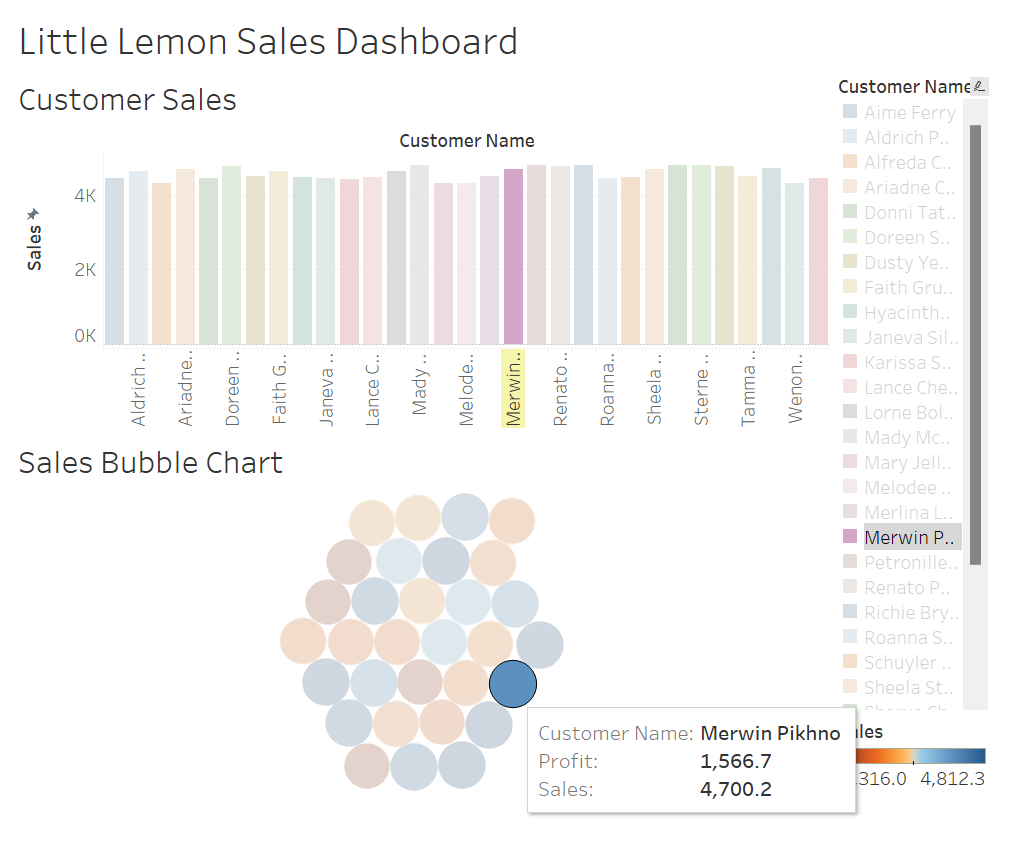

What the dashboard file says about the page in this screenshot:
{"tool":"tableau","page":{"name":"Dashboard 1","canvas":[1000,800],"ordinal":0},"visuals":[{"type":"worksheet","title":"Sheet 1","mark":"Automatic","rows":["Sales"],"cols":["Customer Name"],"box":[8,8,824,392]},{"type":"legend","title":"Sheet 1","param":"[federated.08vqa1010qjgio1h1q1ek1ecp60i].[none:Customer Name:nk]","box":[832,8,160,703]},{"type":"worksheet","title":"Sheet 2","mark":"Circle","box":[8,400,824,392]},{"type":"legend","title":"Sheet 2","param":"[federated.08vqa1010qjgio1h1q1ek1ecp60i].[sum:Sales:qk]","box":[832,711,160,81]}]}

Visuals, with their boxes on the page's 1000x800 design canvas (x1, y1, x2, y2). These are canvas units, not pixel positions in the 1013x849 screenshot, which may show the page scaled, cropped or inside an application window:
"Sheet 1" worksheet: (8,8,832,400)
"Sheet 1" legend: (832,8,992,711)
"Sheet 2" worksheet (Circle marks): (8,400,832,792)
"Sheet 2" legend: (832,711,992,792)
